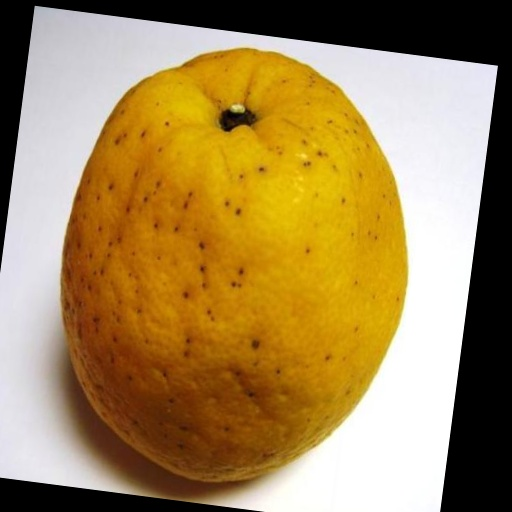fruit: (61, 49, 407, 481)
